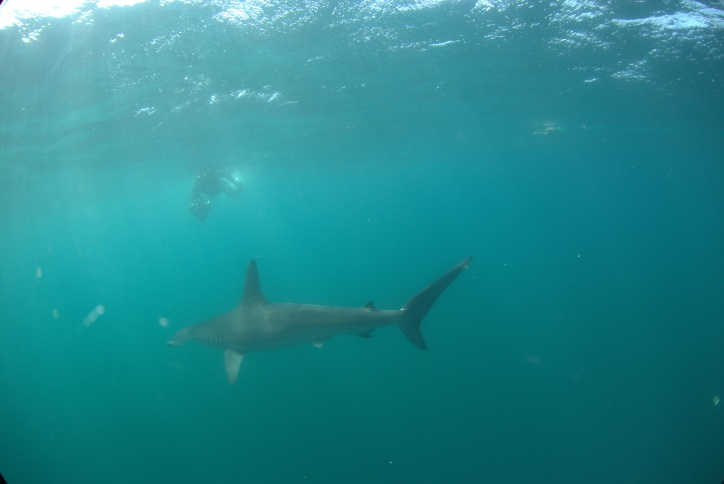Hammer: (150, 242, 487, 394)
